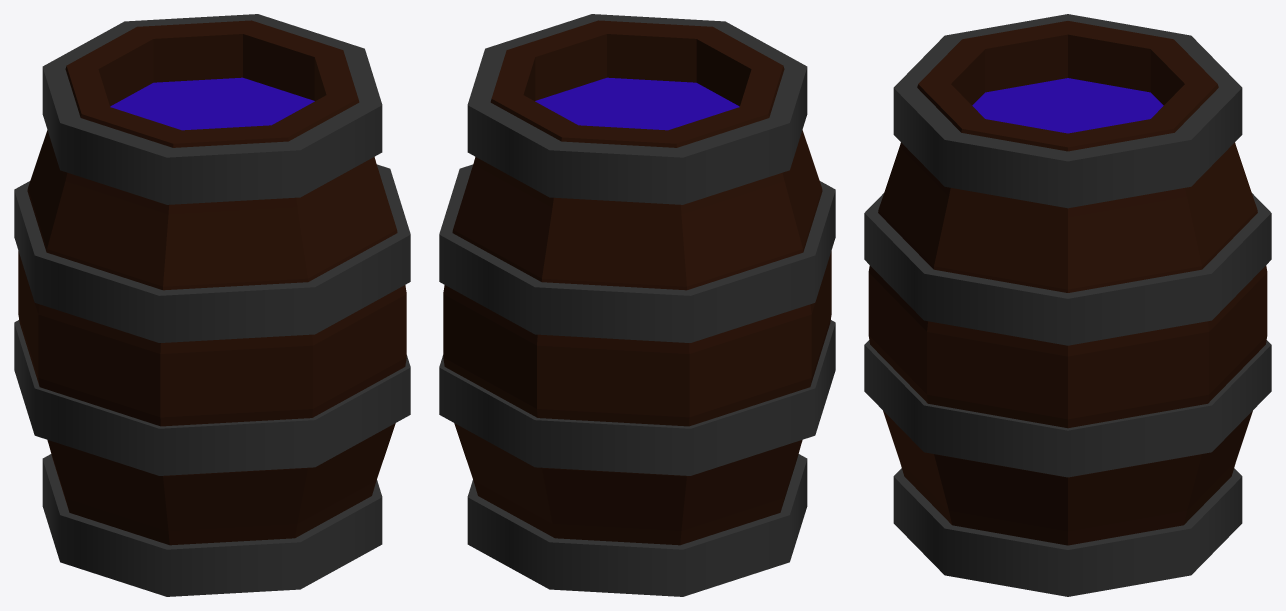
The model's file is Barrel.FBX.
3 views of the same model, side by side, from view 1: azimuth 30°, elevation 25°; view 2: azimuth 150°, elevation 25°; view 3: azimuth 270°, elevation 25° (orthographic).
Visible parts, largest first — view 1: Cylinder001, Cylinder005, Cylinder004, Cylinder003, Cylinder002; view 2: Cylinder001, Cylinder005, Cylinder004, Cylinder003, Cylinder002; view 3: Cylinder001, Cylinder005, Cylinder004, Cylinder003, Cylinder002.
Boxes of the visible parts, x1=… form: Cylinder001: x1=18, y1=20, x2=406, y2=545; Cylinder005: x1=42, y1=14, x2=382, y2=204; Cylinder004: x1=14, y1=164, x2=410, y2=342; Cylinder003: x1=14, y1=320, x2=410, y2=475; Cylinder002: x1=42, y1=454, x2=382, y2=596; Cylinder001: x1=443, y1=20, x2=831, y2=545; Cylinder005: x1=467, y1=14, x2=807, y2=204; Cylinder004: x1=439, y1=164, x2=835, y2=342; Cylinder003: x1=439, y1=320, x2=835, y2=475; Cylinder002: x1=467, y1=454, x2=807, y2=596; Cylinder001: x1=868, y1=21, x2=1267, y2=545; Cylinder005: x1=893, y1=14, x2=1242, y2=208; Cylinder004: x1=864, y1=193, x2=1271, y2=345; Cylinder003: x1=864, y1=340, x2=1271, y2=477; Cylinder002: x1=893, y1=468, x2=1242, y2=596.
Size of the model in its own units: 42 by 50 by 42.
